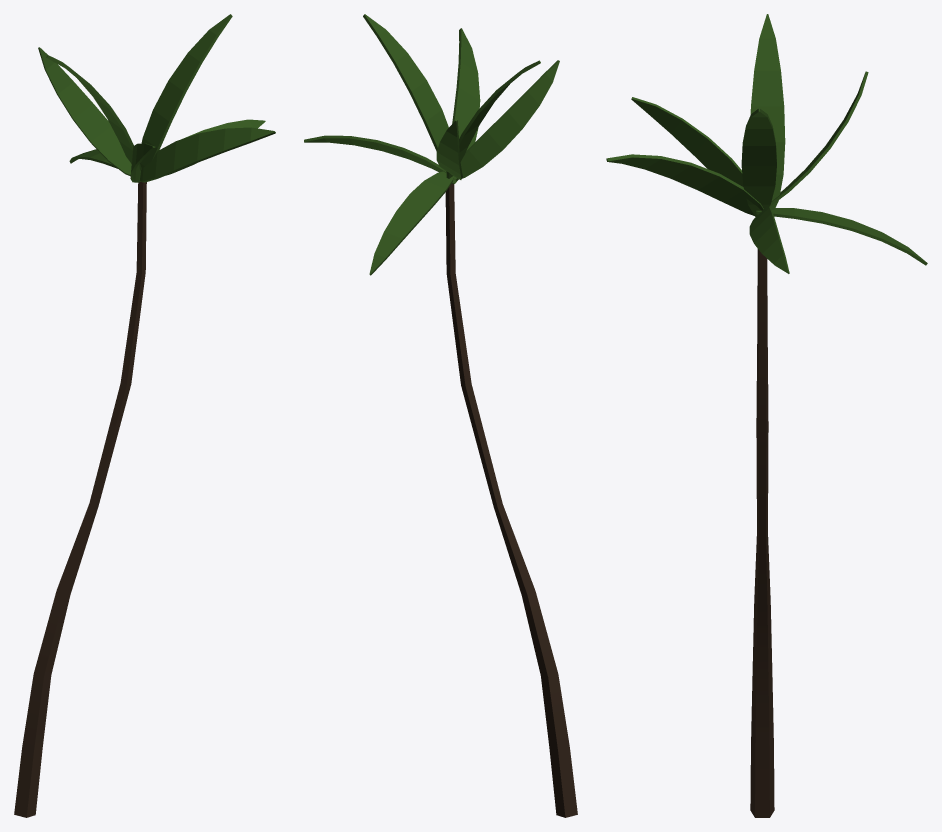
File: SM_tree_palm_small_01.fbx
3 renders of one model, left to right at view 1: azimuth 30°, elevation 25°; view 2: azimuth 150°, elevation 25°; view 3: azimuth 270°, elevation 25°, orthographic. The views are drawn at different scales.
Visible parts, largest first — view 1: Line005; view 2: Line005; view 3: Line005.
Boxes of the visible parts, bbox=[...] form: Line005: bbox=[14, 14, 275, 817]; Line005: bbox=[304, 14, 577, 817]; Line005: bbox=[606, 14, 927, 817].
Size of the model in its own units: 75.25 by 73.59 by 205.
